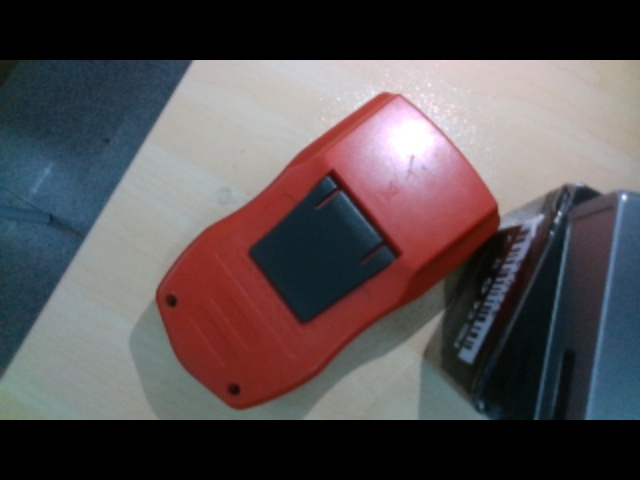Multimeter: (152, 91, 503, 414)
